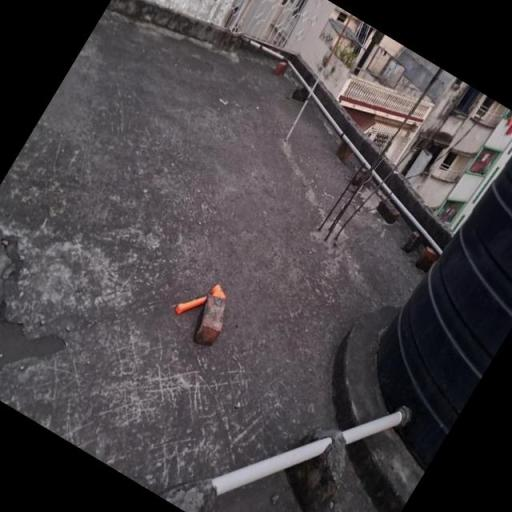mallet: (174, 272, 230, 331)
